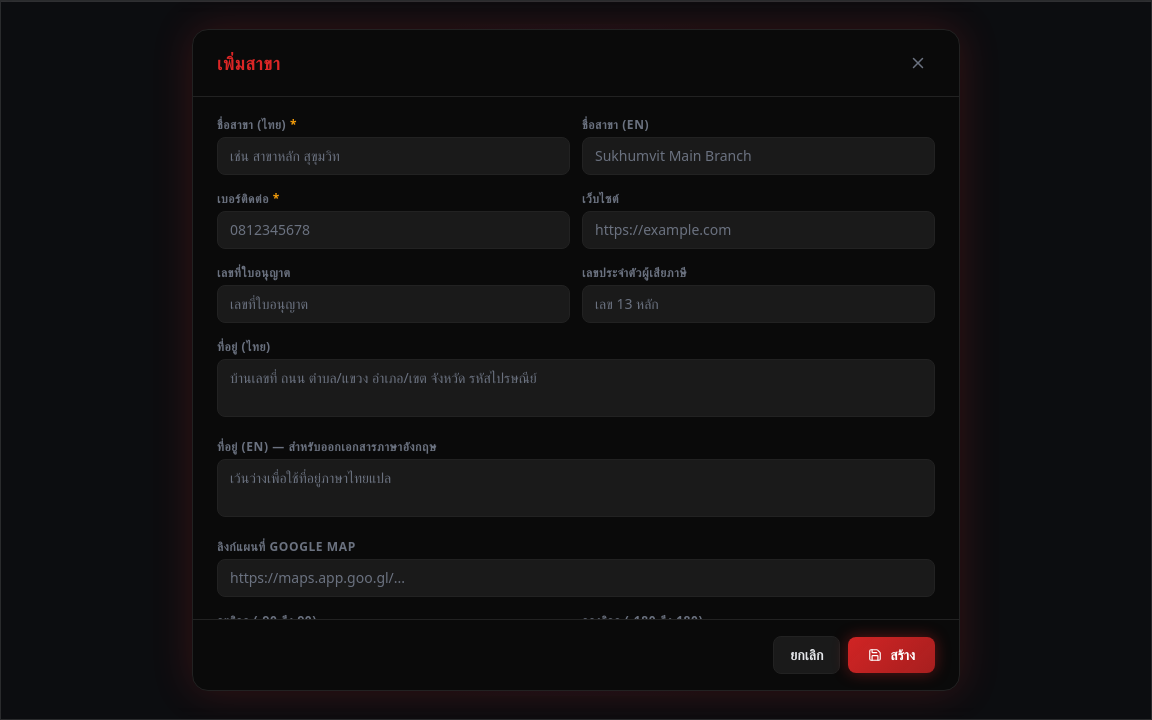
Test: BranchFormModal — BM1..BM7 › BM5: bad phone surfaces validation
The image size is (1152, 720).
In the field with placeholder "เช่น สาขาหลัก สุขุมวิท": (394, 156) [217, 137, 570, 175], type "X"
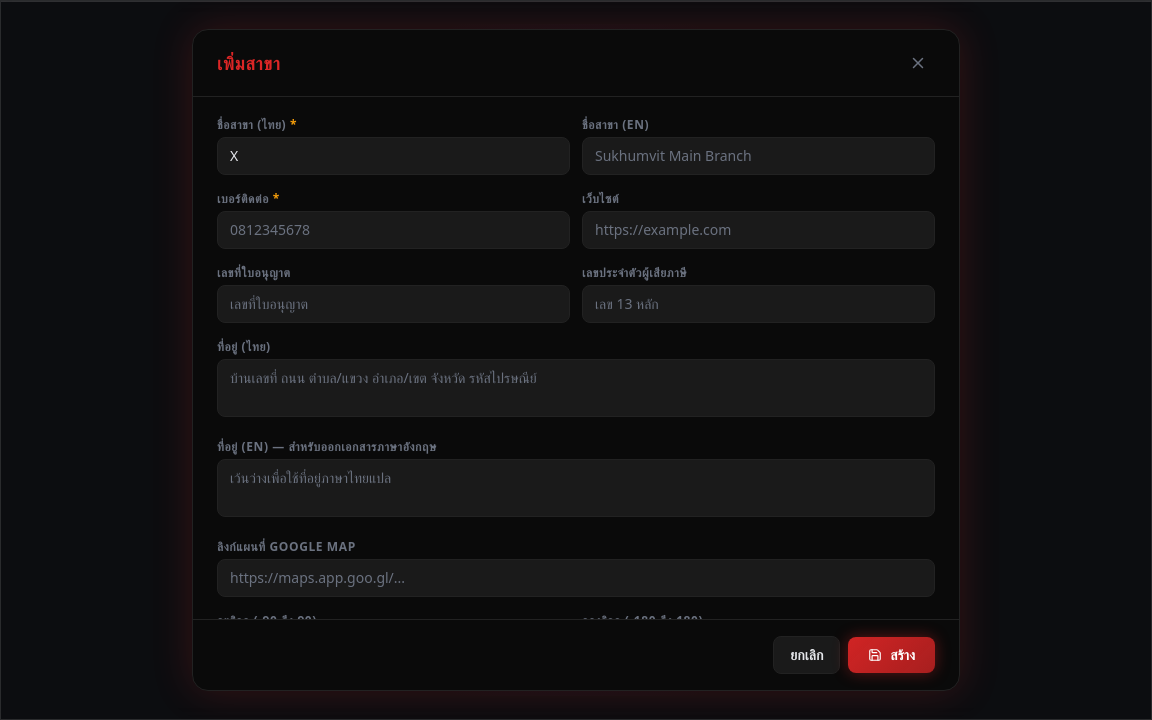
In the field with placeholder "0812345678": (394, 230) [217, 211, 570, 249], type "12345"
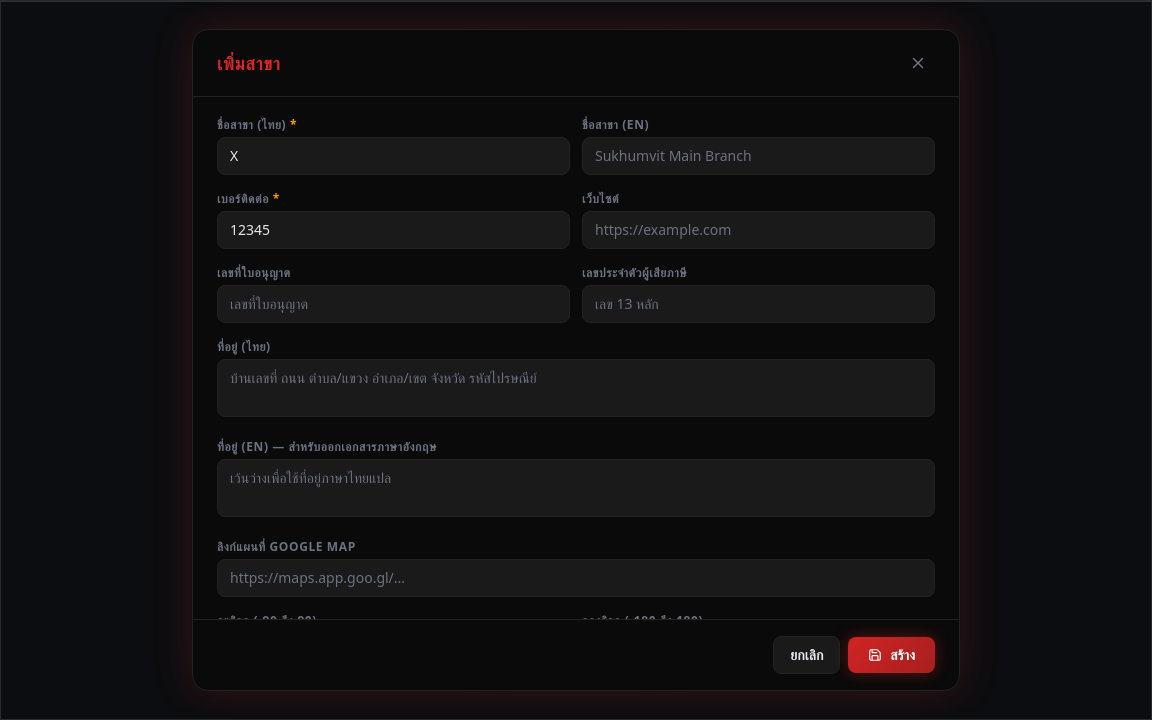
Click the button "สร้าง": (892, 655) [848, 637, 935, 673]
(page scrolled)
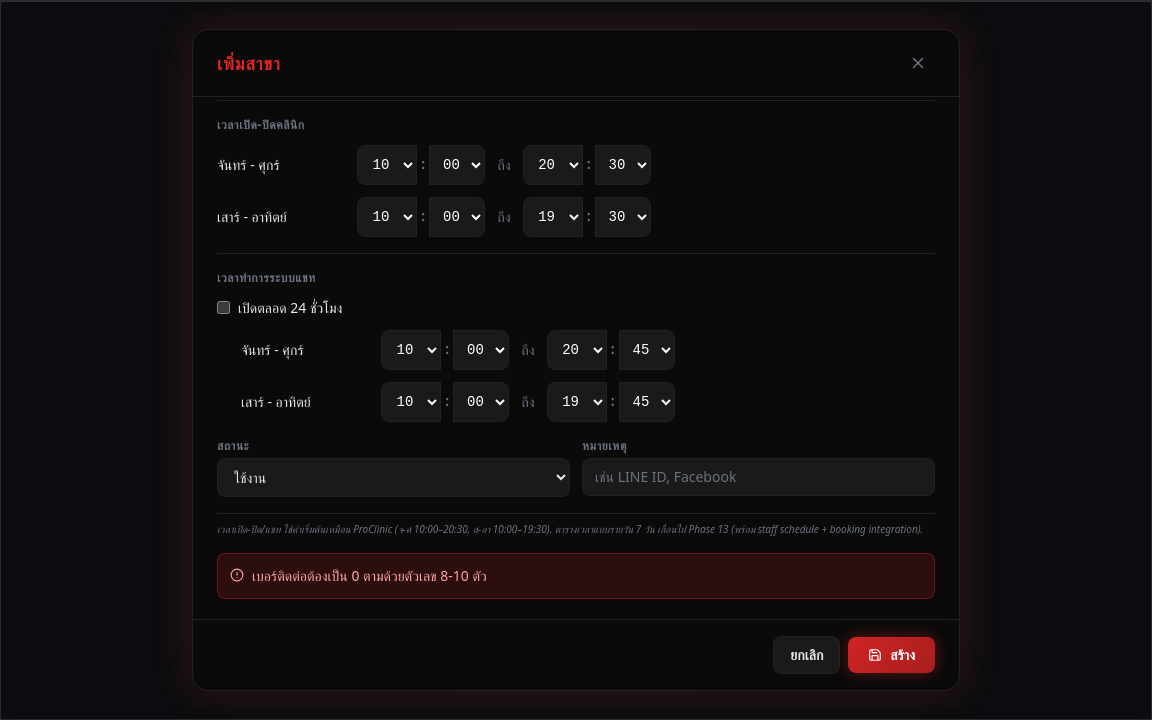
Result: the text "เบอร์ติดต่อต้องเป็น 0 ตามด้วยตัวเลข 8-10 ตัว" is shown at [252, 566, 487, 586]
